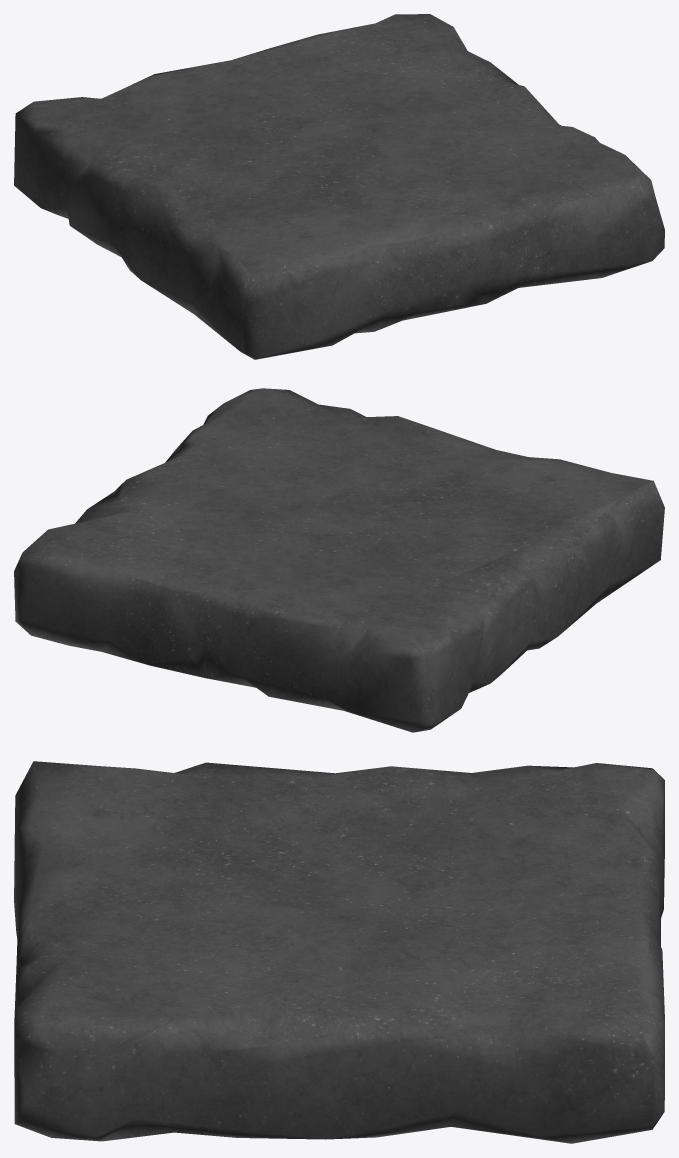
Rendered from SM_Slab6.fbx.
3 renders of one model, top to bottom at view 1: azimuth 30°, elevation 25°; view 2: azimuth 150°, elevation 25°; view 3: azimuth 270°, elevation 25°, orthographic. The views are drawn at different scales.
Visible parts, largest first — view 1: SM_Slab6_LOD0; view 2: SM_Slab6_LOD0; view 3: SM_Slab6_LOD0.
Boxes of the visible parts, <box> form: SM_Slab6_LOD0: <box>14,14,664,359</box>; SM_Slab6_LOD0: <box>14,388,664,732</box>; SM_Slab6_LOD0: <box>14,761,664,1143</box>.
Size of the model in its own units: 150 by 150 by 30.2.
Materials: 1 (1 with a texture image).
